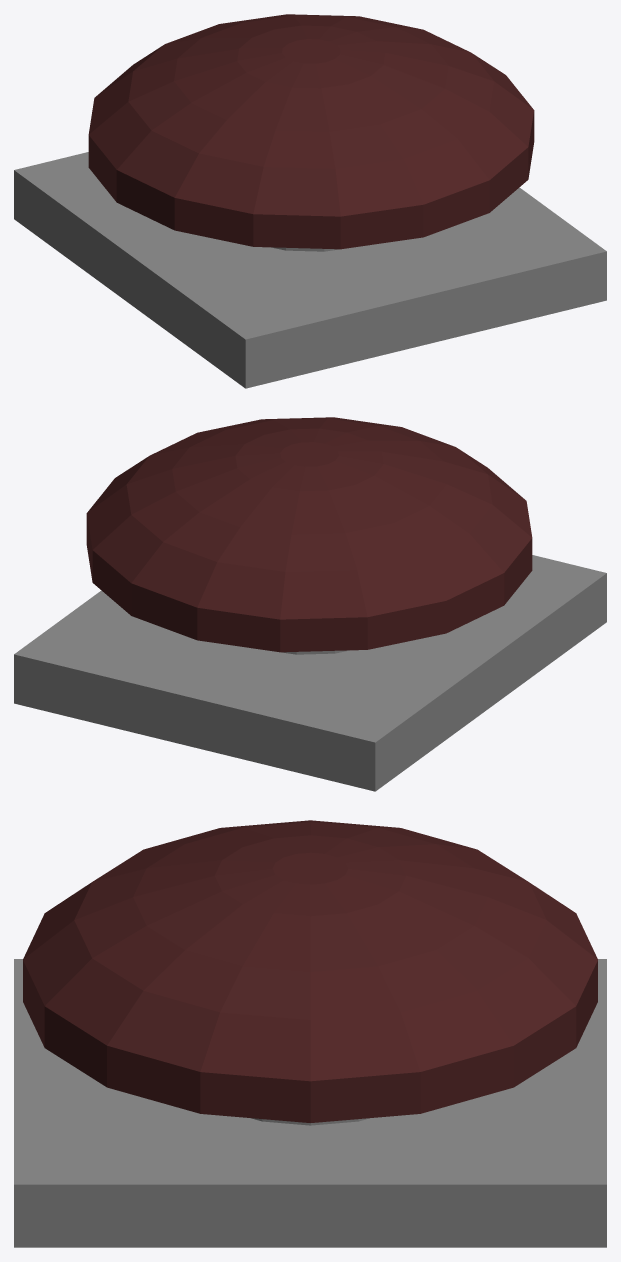
Rendered from bouton.fbx.
3 views of the same model, one above another, from view 1: azimuth 30°, elevation 25°; view 2: azimuth 150°, elevation 25°; view 3: azimuth 270°, elevation 25° (orthographic). The views are drawn at different scales.
Visible parts, largest first — view 1: pCube2; view 2: pCube2; view 3: pCube2.
Boxes of the visible parts, <box> form: pCube2: <box>14,14,606,388</box>; pCube2: <box>14,417,606,791</box>; pCube2: <box>14,820,606,1247</box>.
Bounding box in the file's own units: 9.03 × 4.61 × 9.3.
